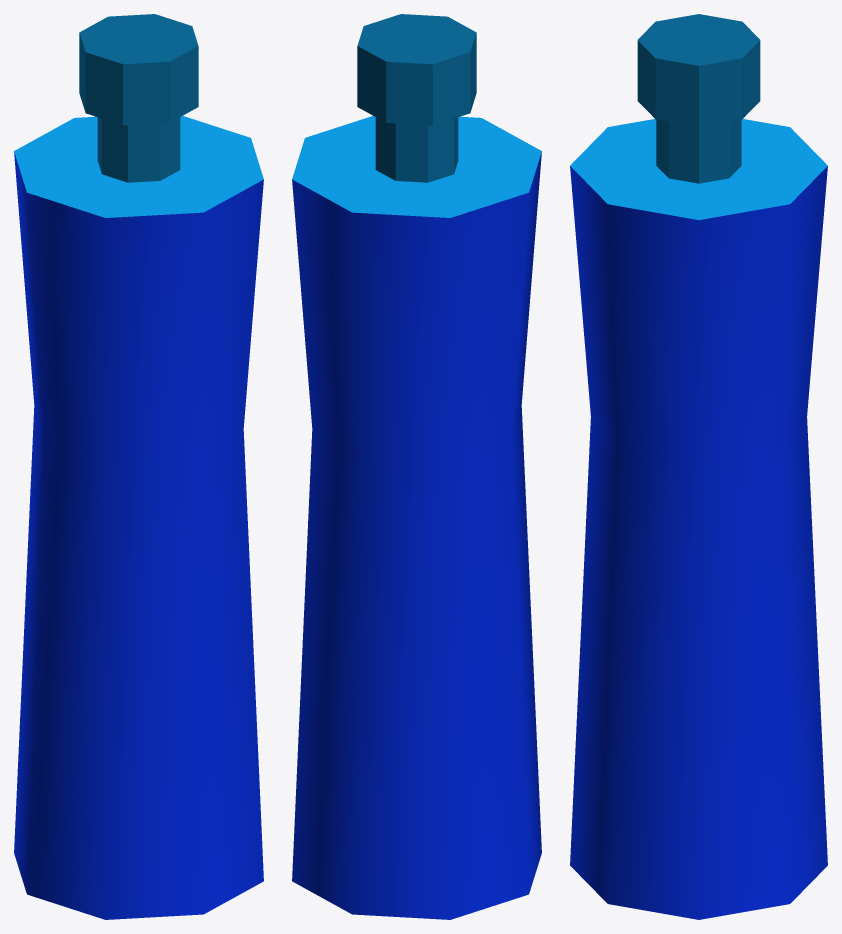
File: Liquid.fbx
3 views of the same model, side by side, from view 1: azimuth 30°, elevation 25°; view 2: azimuth 150°, elevation 25°; view 3: azimuth 270°, elevation 25° (orthographic).
Parts seen in each view (by area): view 1: Liquid; view 2: Liquid; view 3: Liquid.
Part boxes in pixels (x1=…): Liquid: x1=14, y1=14, x2=263, y2=919; Liquid: x1=292, y1=14, x2=541, y2=919; Liquid: x1=570, y1=14, x2=827, y2=919.
Size of the model in its own units: 9.13 by 32.24 by 9.13.
